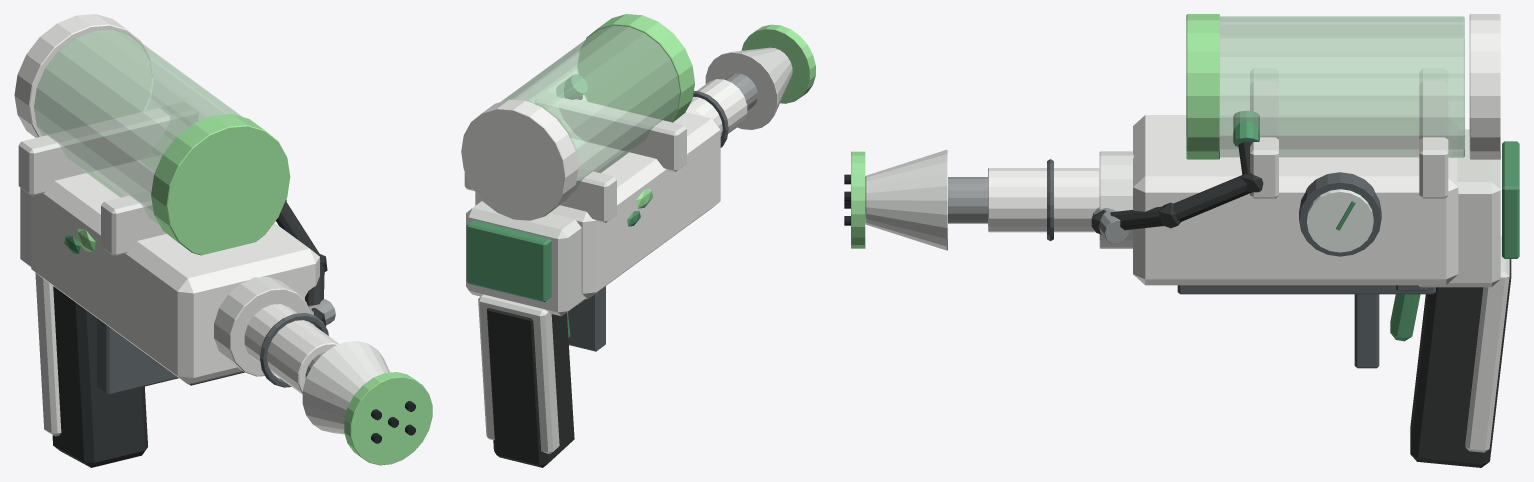
The model's file is Fertilizer.glb.
3 renders of one model, left to right at view 1: azimuth 30°, elevation 25°; view 2: azimuth 150°, elevation 25°; view 3: azimuth 270°, elevation 25°, orthographic. The views are drawn at different scales.
Visible parts, largest first — view 1: FTF_Tool_FertilizerInjector_White_v2_Static; view 2: FTF_Tool_FertilizerInjector_White_v2_Static; view 3: FTF_Tool_FertilizerInjector_White_v2_Static.
Boxes of the visible parts, bbox=[...] form: FTF_Tool_FertilizerInjector_White_v2_Static: bbox=[14, 14, 432, 467]; FTF_Tool_FertilizerInjector_White_v2_Static: bbox=[461, 14, 815, 467]; FTF_Tool_FertilizerInjector_White_v2_Static: bbox=[844, 14, 1519, 467].
Bounding box in the file's own units: 0.954 × 2.15 × 3.03.
